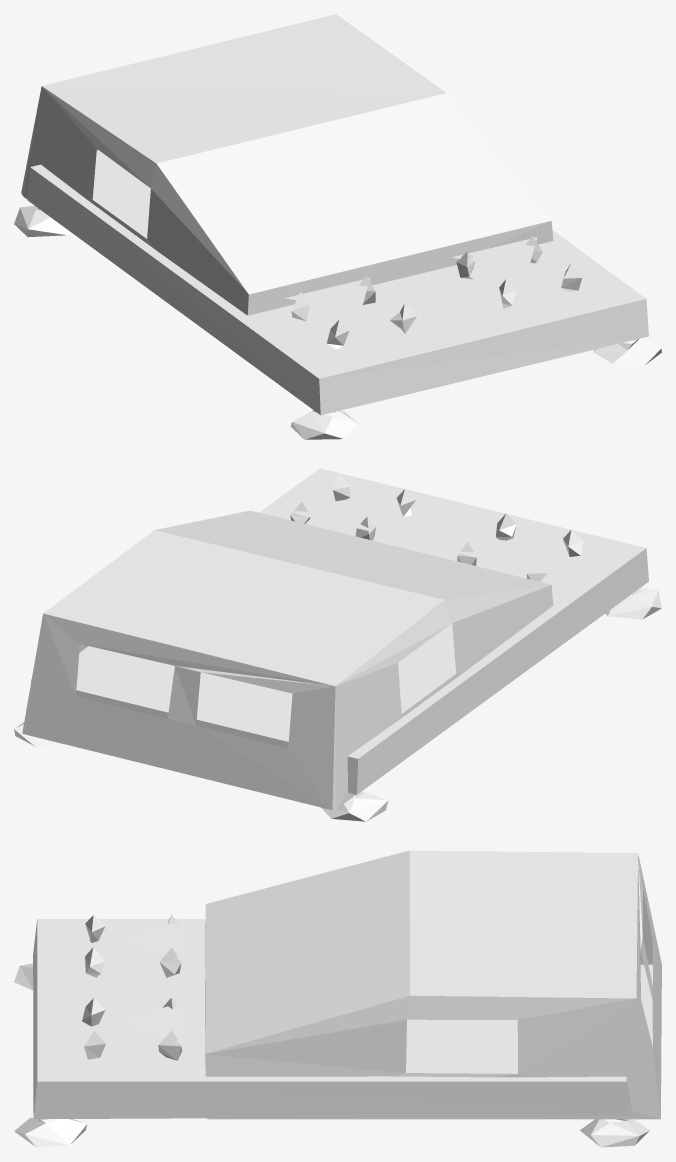
The picture shows the model from 3 angles, top to bottom: view 1: azimuth 30°, elevation 25°; view 2: azimuth 150°, elevation 25°; view 3: azimuth 270°, elevation 25°; orthographic projection. The views are drawn at different scales.
Bounding box in the file's own units: 1.08 × 0.3836 × 1.65.
Materials: 1 (1 with a texture image).
